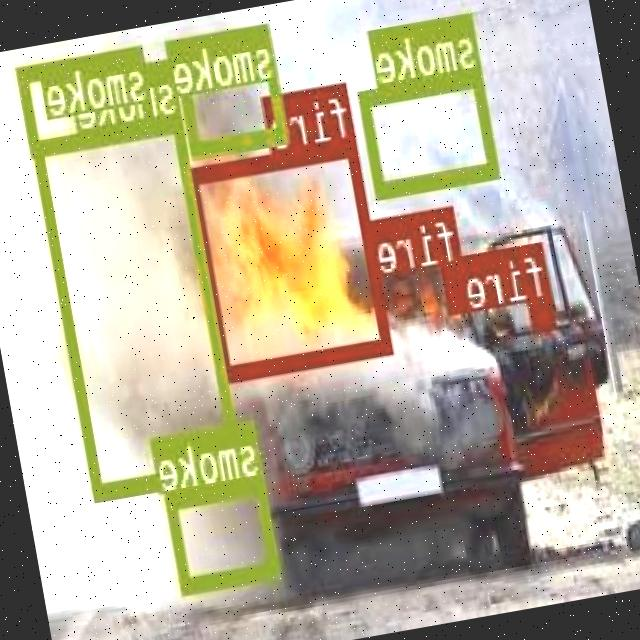fire: (187, 134, 395, 378), (444, 260, 474, 309), (529, 297, 558, 327)
smoke: (33, 110, 247, 498), (359, 67, 502, 196), (17, 41, 160, 155), (173, 21, 291, 153), (168, 474, 282, 592)
